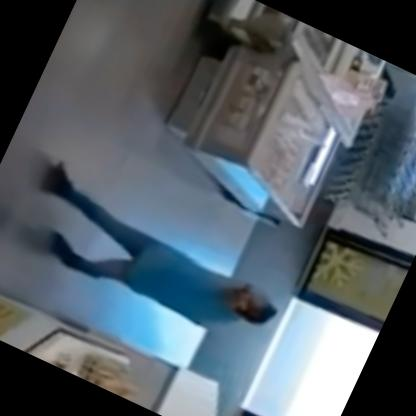Human Body: (9, 152, 298, 358)
